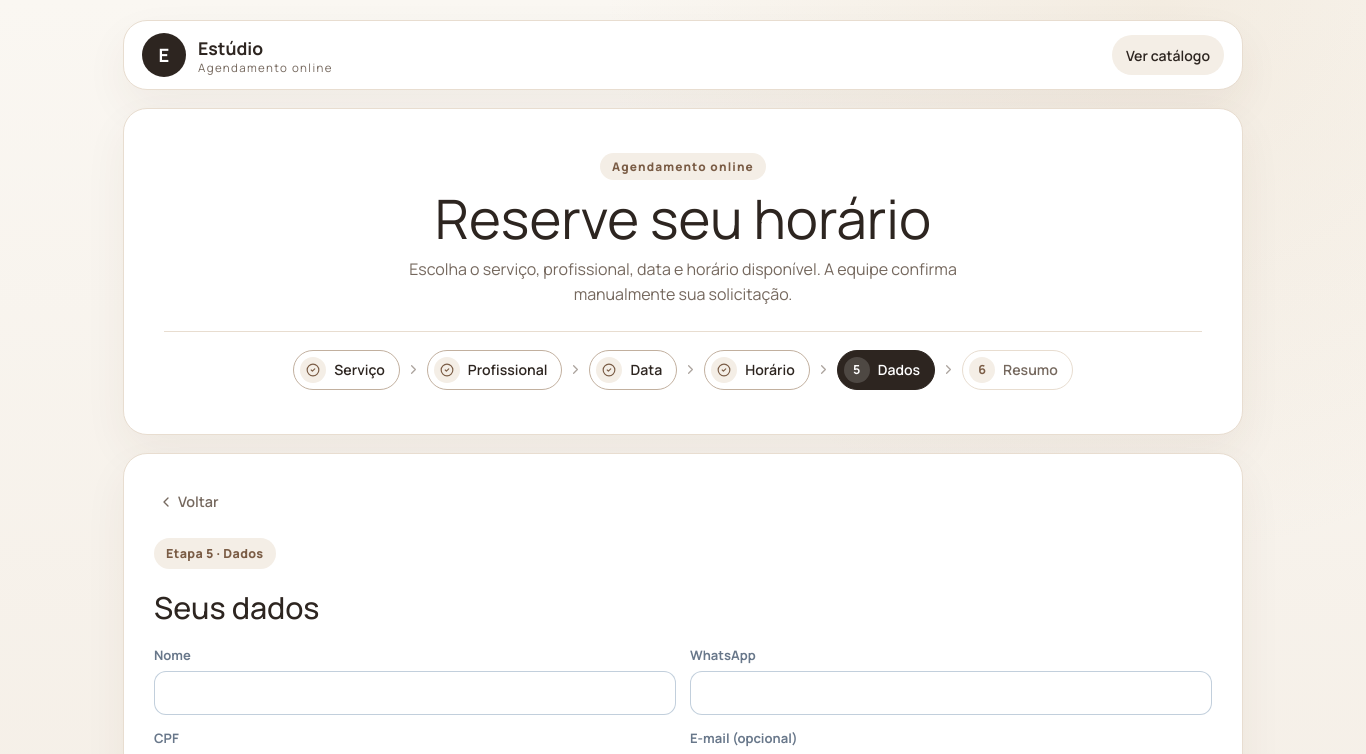
PublicBooking · CPF › com gateway configurado, o CPF é obrigatório e trava o avanço
The width and height of the screenshot is (1366, 754).
Type "Cliente Teste" into the field labelled "Nome" at point(415, 693), box [154,671,676,715]
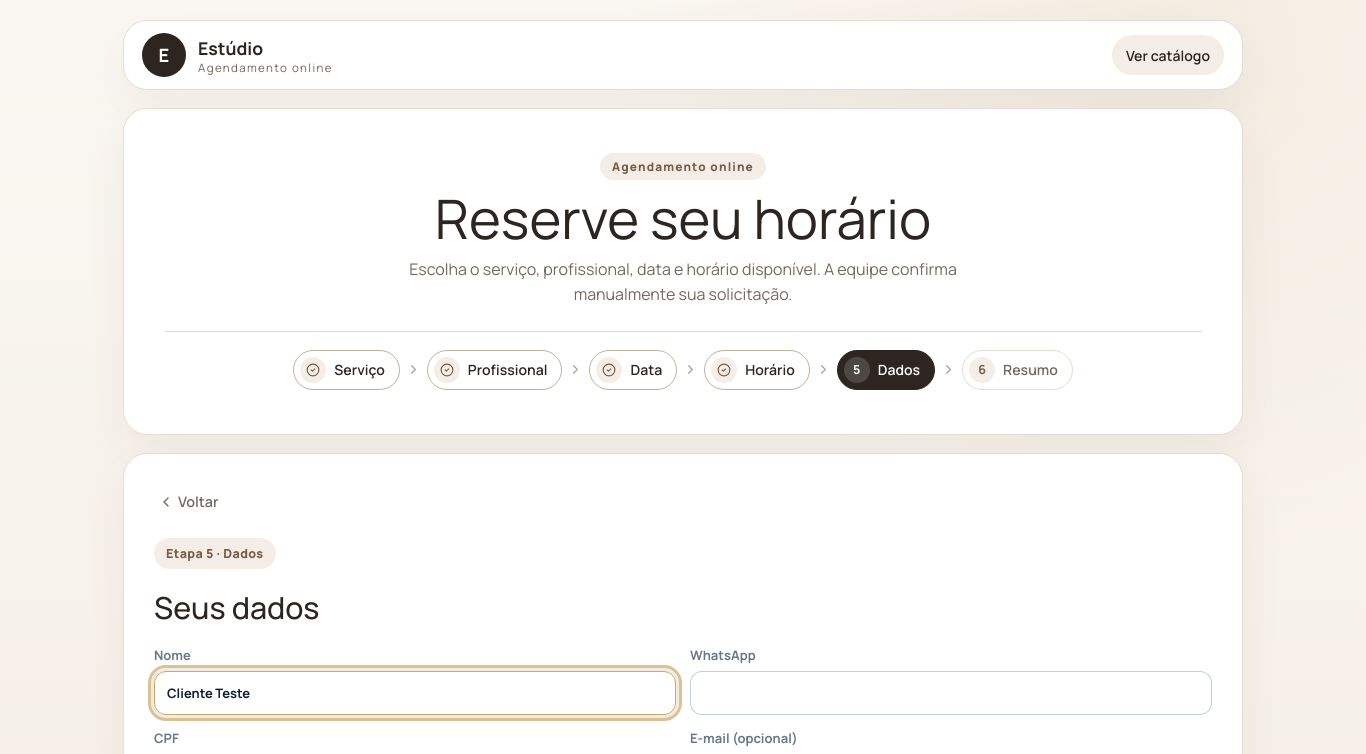
Type "11988887777" into the field labelled "WhatsApp" at point(951, 693), box [690,671,1212,715]
(page scrolled)
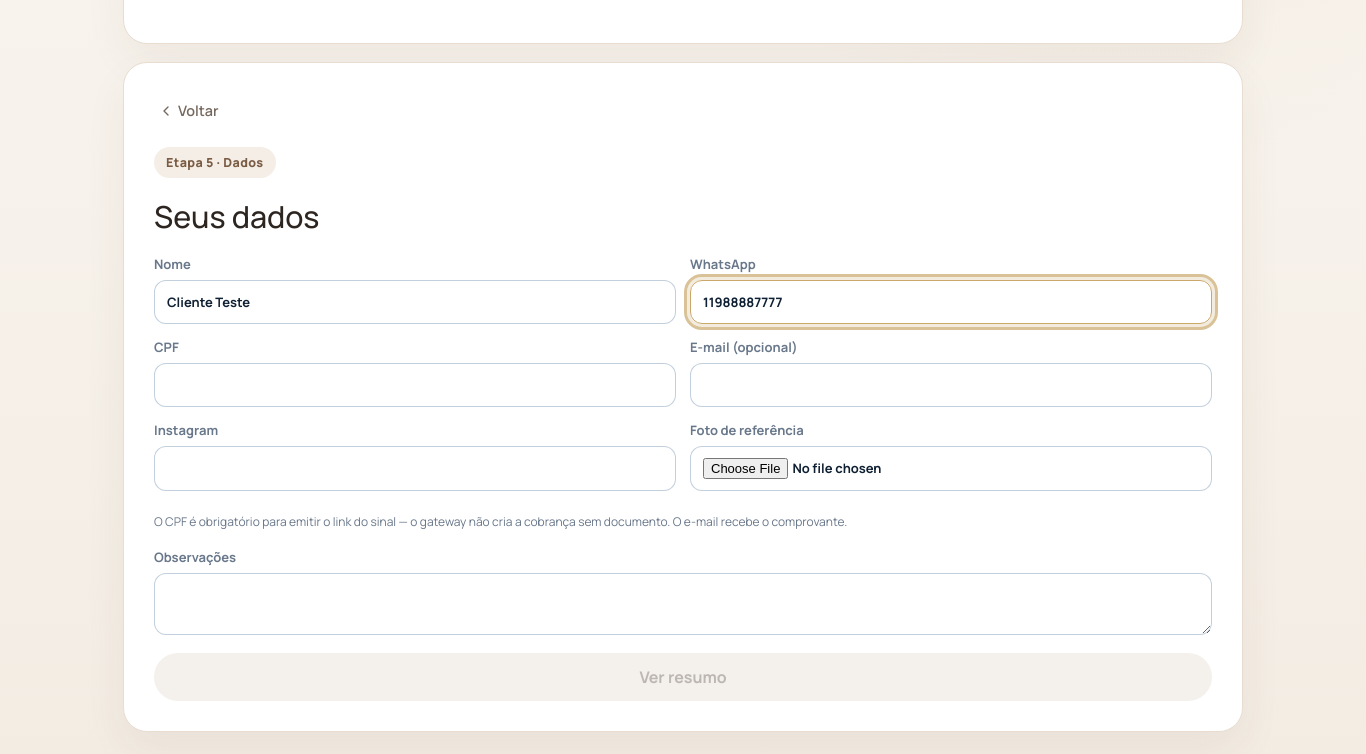
Expected: the button "Ver resumo" is disabled, [154,653,1212,701]
Expected: the text "obrigatório para emitir o link do sinal" is shown, [154,513,847,530]
Type "11111111111" into the field labelled "CPF" at point(415, 385), box [154,363,676,407]
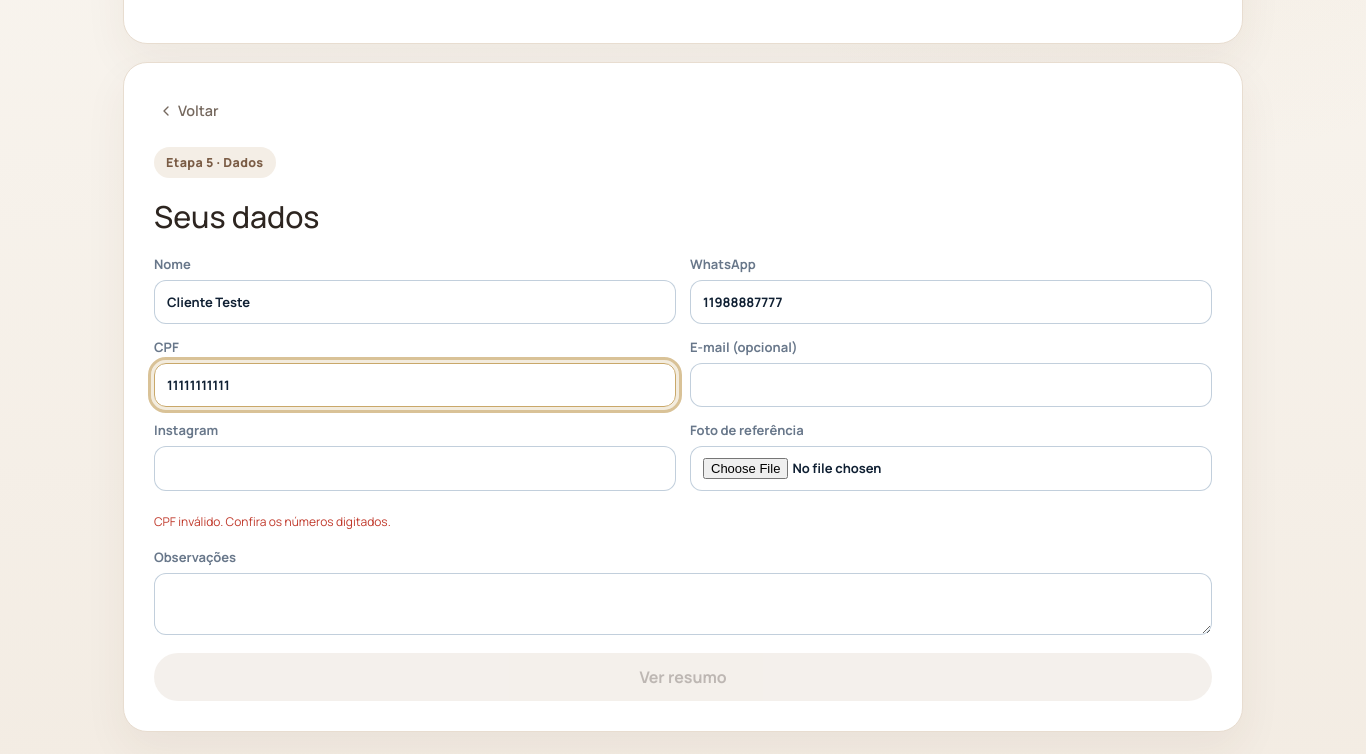
Expected: the button "Ver resumo" is disabled, [154,653,1212,701]
Expected: the text "CPF inválido. Confira os números digitados." is shown, [154,513,391,530]
Press Tab
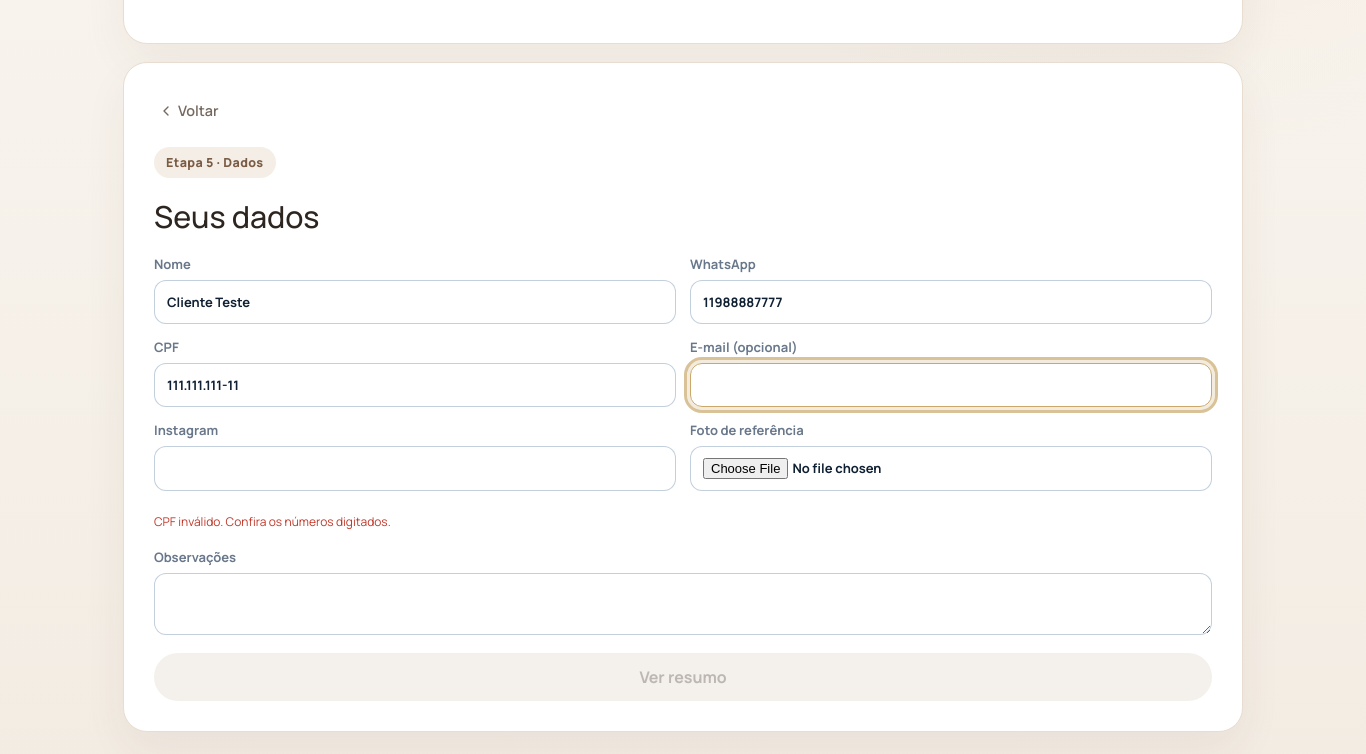
Expected: the field labelled "CPF" holds "111.111.111-11"
Replace the text in the field labelled "CPF" with "52998224725" at point(415, 385), box [154,363,676,407]
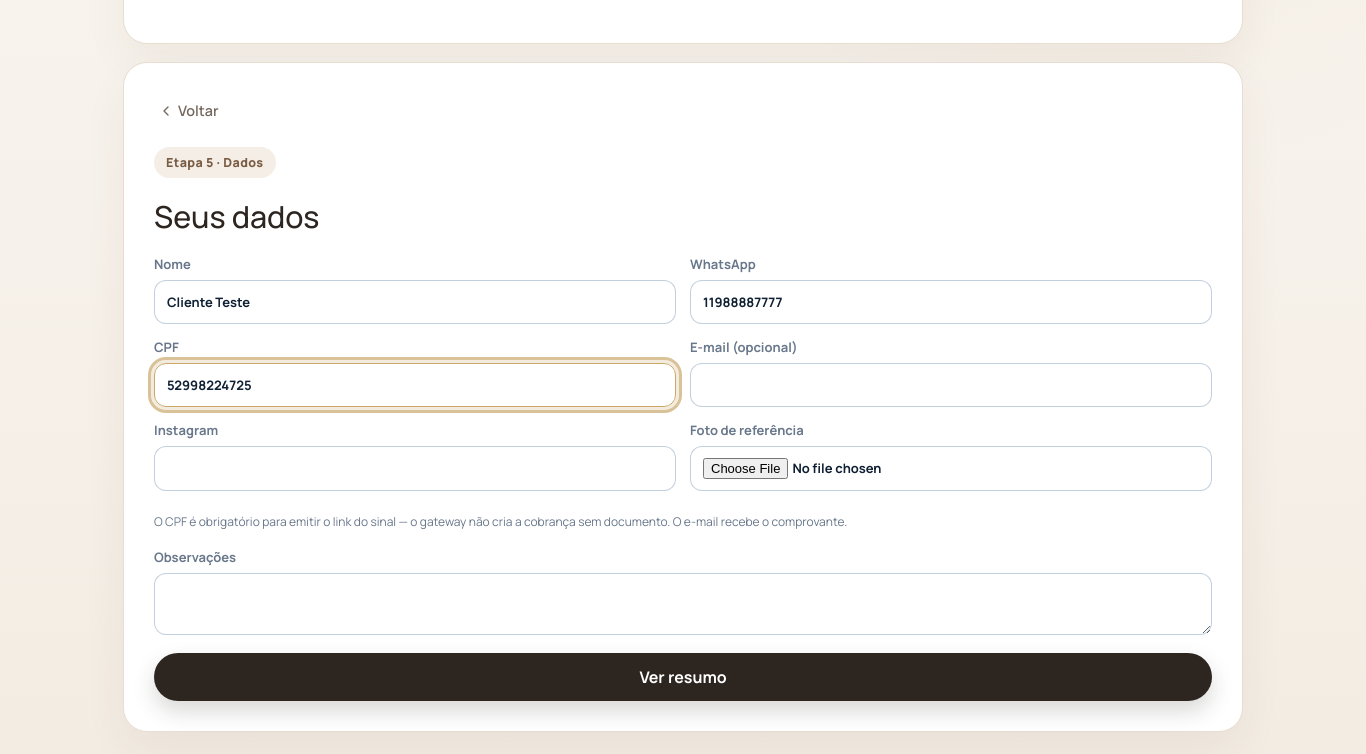
Expected: the button "Ver resumo" is enabled, [154,653,1212,701]
Press Tab
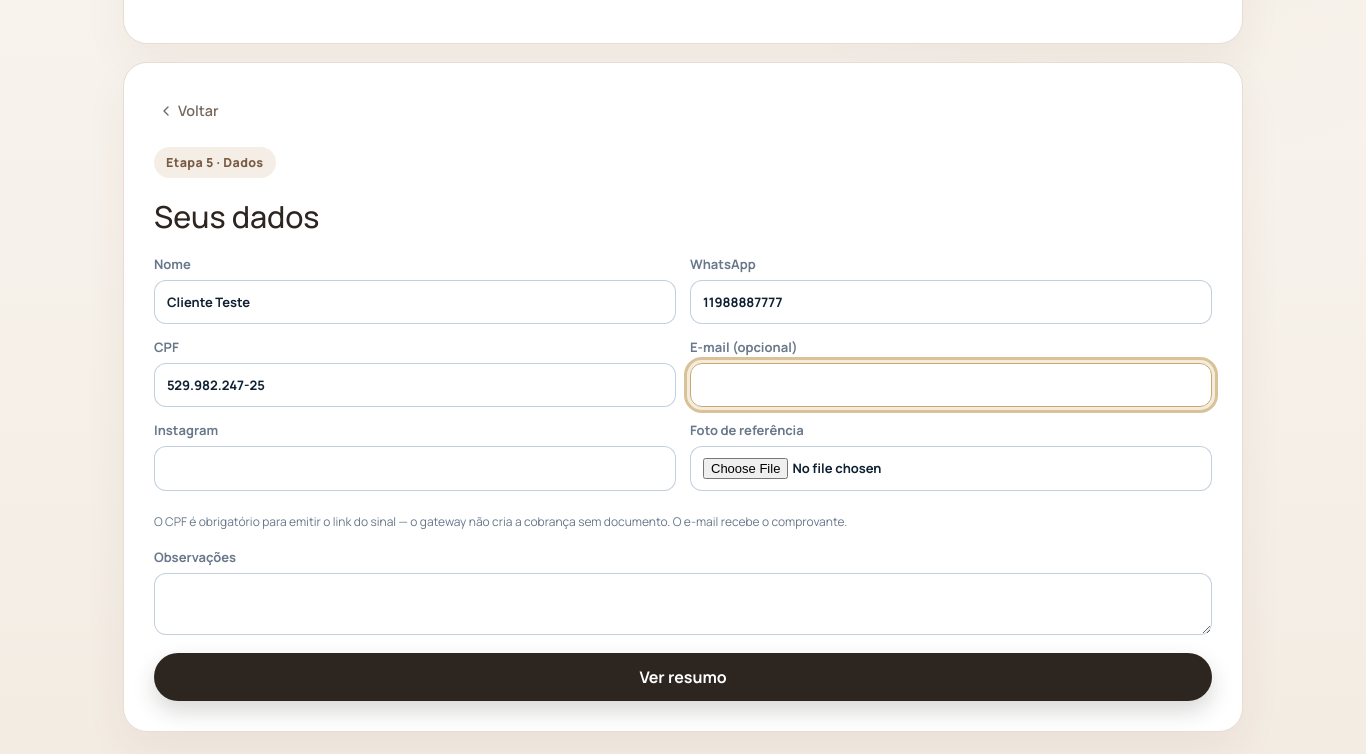
Expected: the button "Ver resumo" is enabled, [154,653,1212,701]
Expected: the field labelled "CPF" holds "529.982.247-25", [154,363,676,407]
